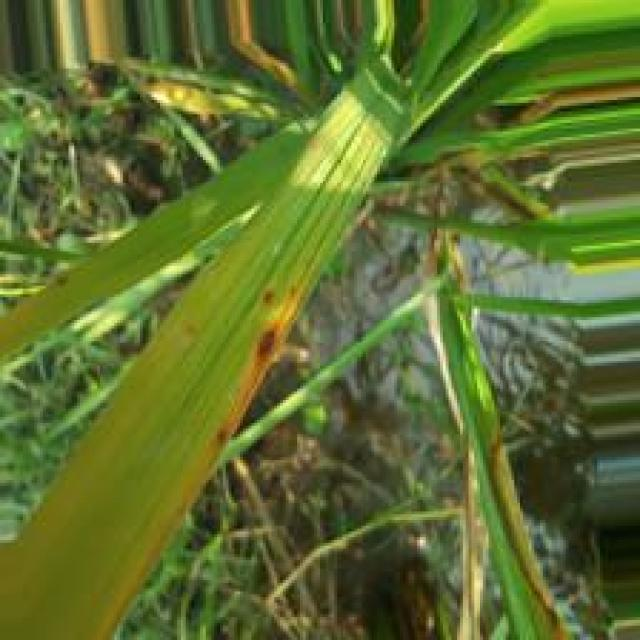Leaf_Blast: (211, 279, 306, 458)
